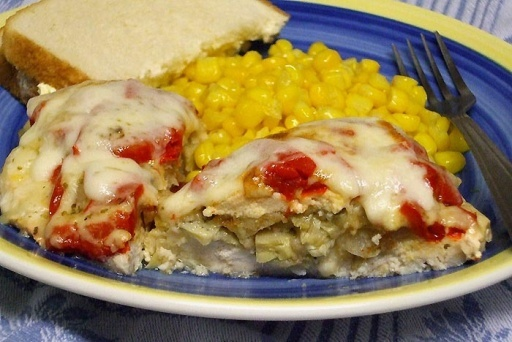background: (0, 0, 394, 150)
